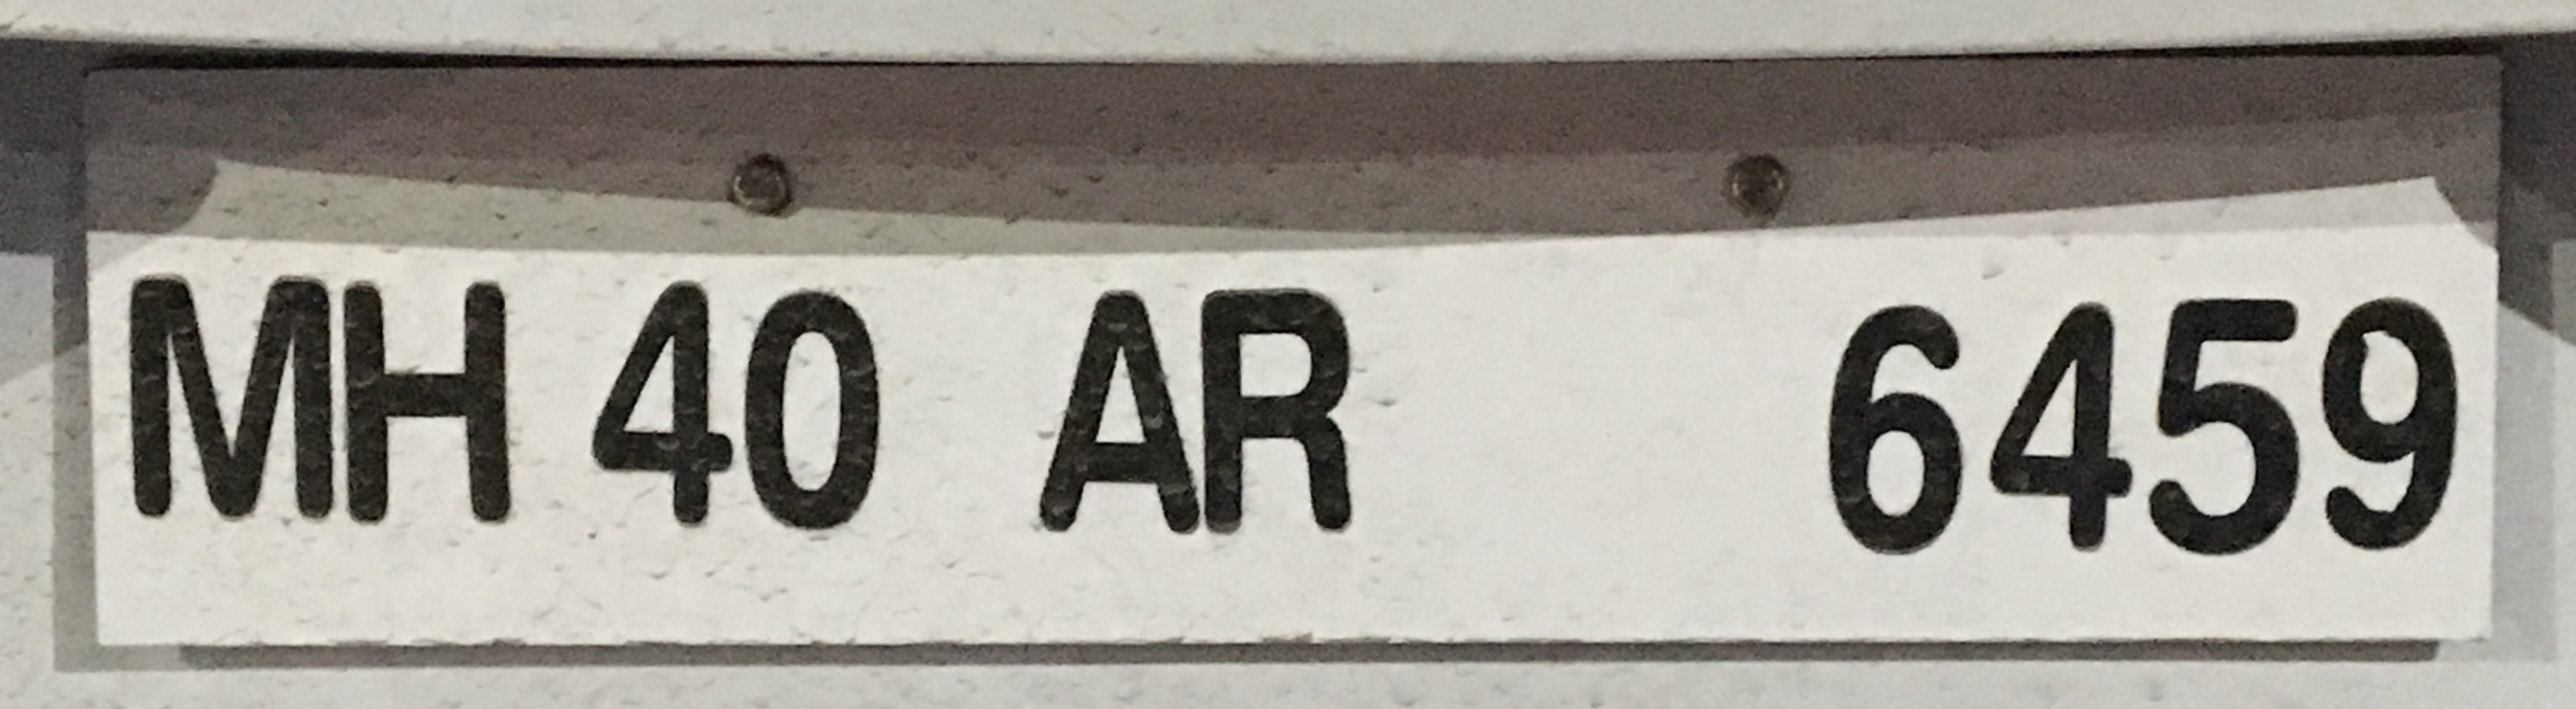numberplate: (75, 51, 2497, 653)
